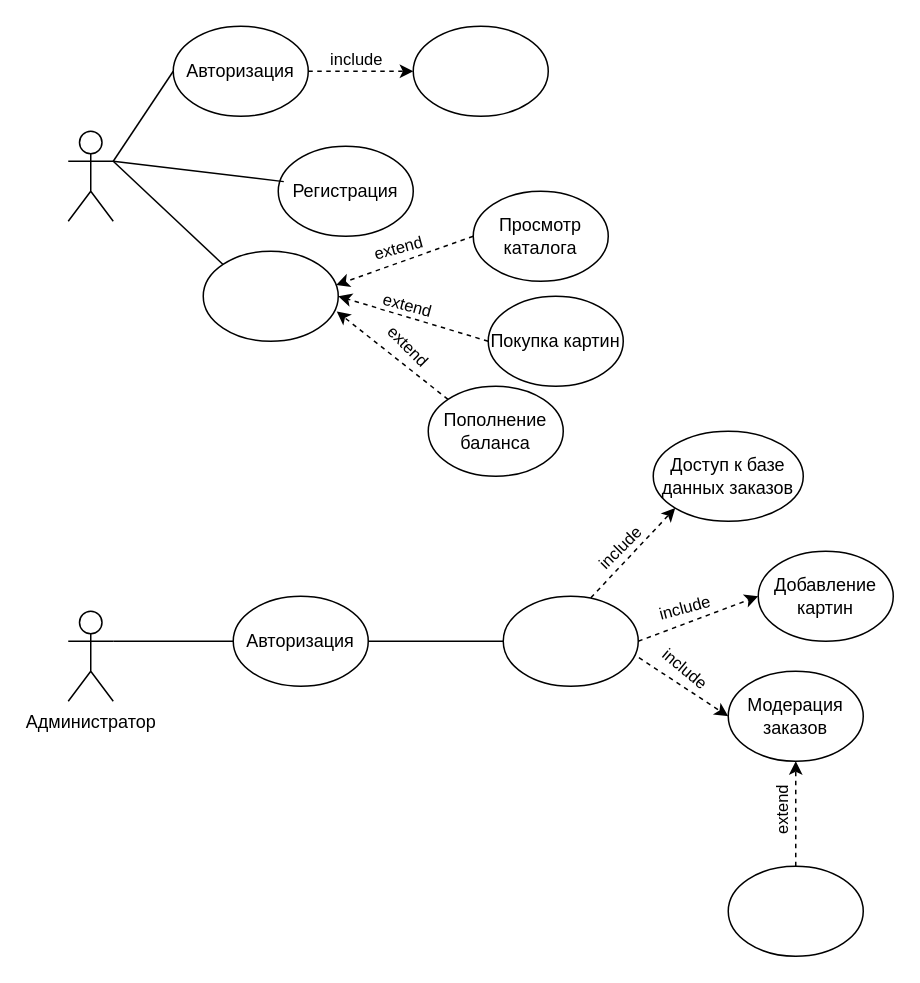
Image size: 920x983. Some labels were removed from this diagram. The shapes that lost their labels are listed below. From the top down, each one's box as (x1, y1, x2, y2) in pixels, then its label:
(412, 25, 548, 116): Выход
(67, 130, 113, 221): Пользователь
(202, 250, 338, 341): Просмотр страниц сайта
(502, 595, 638, 686): Админпанель
(727, 865, 863, 956): Просмотр информации о заказе
